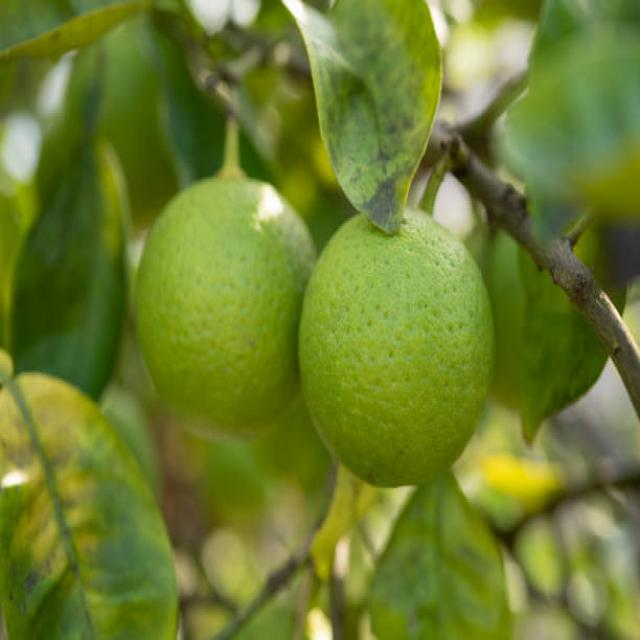Unripe: (300, 194, 495, 486), (134, 173, 313, 443)
